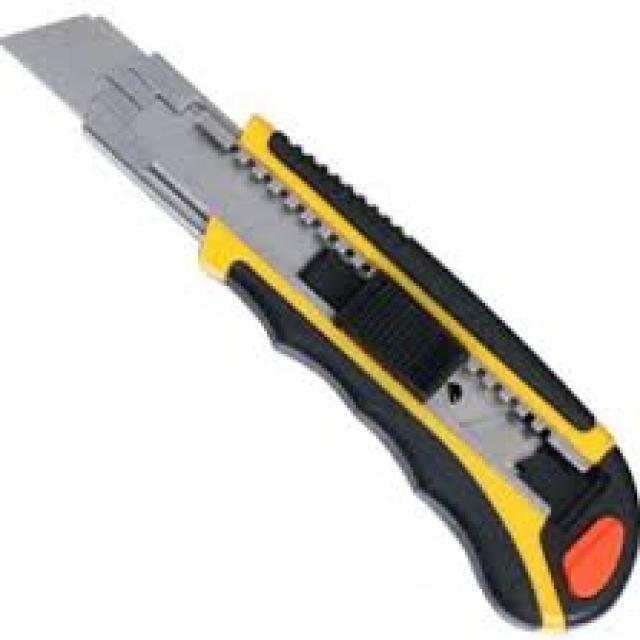cutter: (1, 4, 640, 630)
